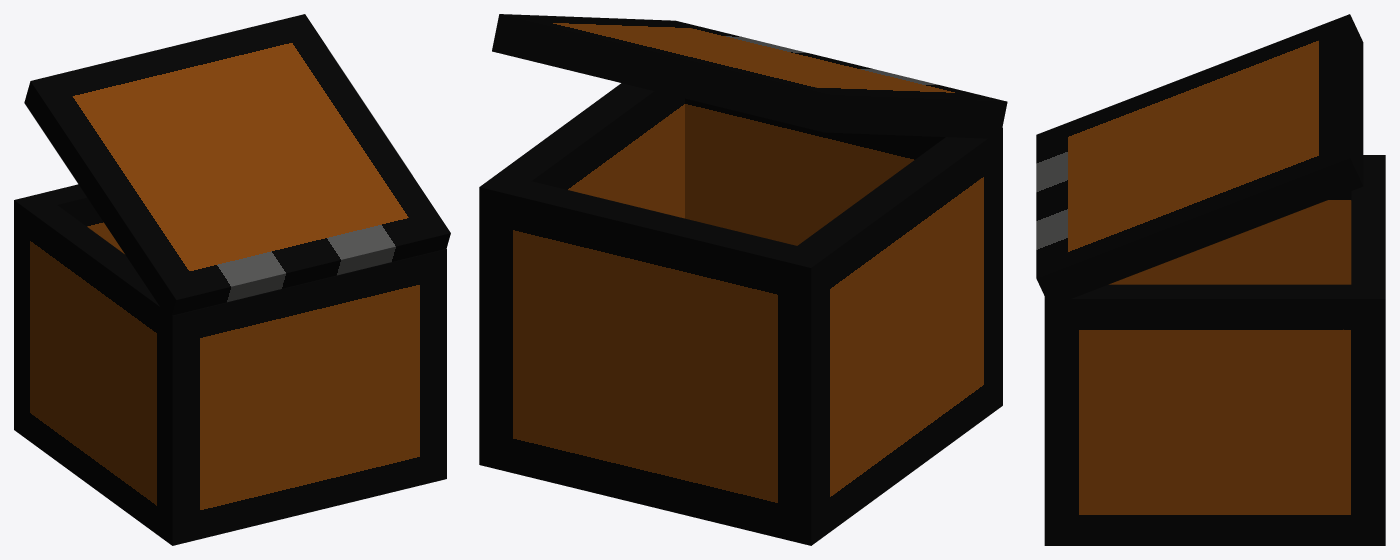
The model's file is AnimatedCrate.dae.
3 renders of one model, left to right at view 1: azimuth 30°, elevation 25°; view 2: azimuth 150°, elevation 25°; view 3: azimuth 270°, elevation 25°, orthographic. The views are drawn at different scales.
Visible parts, largest first — view 1: Box-local, Lid-local; view 2: Box-local, Lid-local; view 3: Box-local, Lid-local.
Boxes of the visible parts, <box> form: Box-local: <box>14,184,446,545</box>; Lid-local: <box>24,14,450,321</box>; Box-local: <box>479,83,1002,545</box>; Lid-local: <box>492,14,1007,138</box>; Box-local: <box>1044,155,1385,545</box>; Lid-local: <box>1036,14,1363,306</box>.
Size of the model in its own units: 10 by 12.56 by 10.24.
2 materials, 2 textured.
